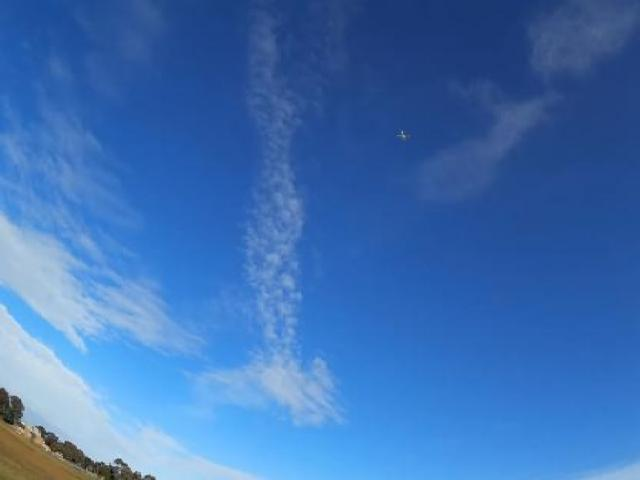uav: (392, 123, 417, 147)
